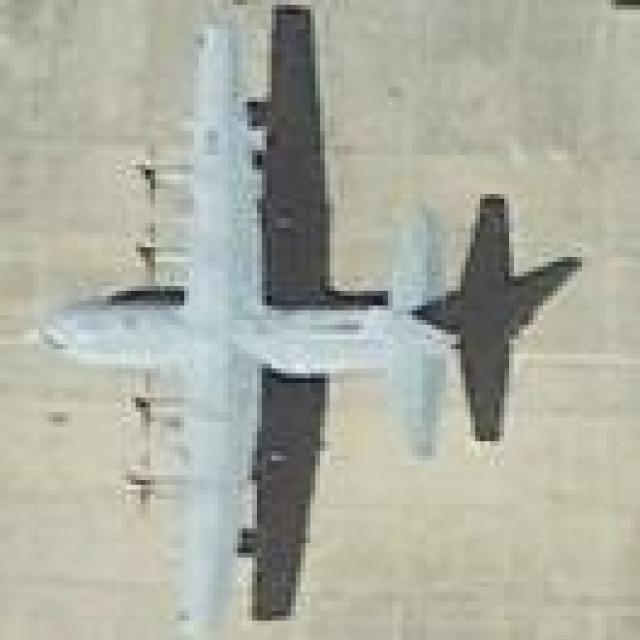C-130_TopDown: (35, 0, 585, 639)
